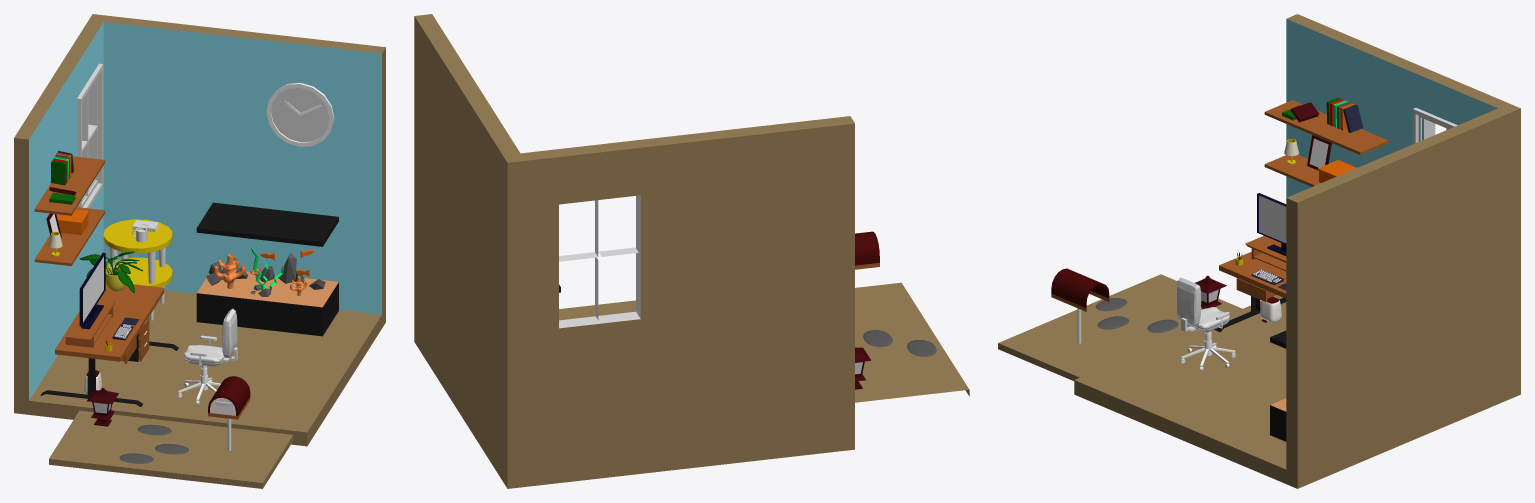
Rendered from officev2.glb.
The picture shows the model from 3 angles, left to right: view 1: azimuth 30°, elevation 25°; view 2: azimuth 150°, elevation 25°; view 3: azimuth 270°, elevation 25°; orthographic projection. The views are drawn at different scales.
Visible parts, largest first — view 1: Walls, Walls.001, Cube.023, Cylinder.011, Desk Top, Plane, Shelf, Cylinder.008, Shelf Itself, Cylinder.012, Monitor Shelf, Cylinder.009 (+9 smaller); view 2: Walls, Walls.001, Plane, Cylinder.012; view 3: Walls, Walls.001, Shelf, Cylinder.012, Desk Top, Screen, Cube.068, Shelf Itself, Cube.023, Monitor Shelf, Cube.063, Plane.
Part boxes in pixels (box(x1,y1,x2,y2)): Walls: box(14, 14, 385, 446); Walls.001: box(49, 410, 293, 488); Cube.023: box(196, 202, 338, 336); Cylinder.011: box(266, 83, 334, 146); Desk Top: box(55, 284, 164, 361); Plane: box(77, 63, 103, 208); Shelf: box(34, 156, 105, 215); Cylinder.008: box(103, 219, 172, 253); Shelf Itself: box(34, 207, 105, 265); Cylinder.012: box(208, 376, 250, 419); Monitor Shelf: box(63, 299, 115, 347); Cylinder.009: box(106, 257, 172, 287); Walls: box(414, 14, 854, 488); Walls.001: box(855, 282, 969, 402); Plane: box(559, 200, 638, 319); Cylinder.012: box(855, 231, 879, 269); Walls: box(1074, 14, 1520, 488); Walls.001: box(998, 274, 1242, 380); Shelf: box(1264, 100, 1388, 154); Cylinder.012: box(1051, 268, 1109, 311); Desk Top: box(1219, 251, 1286, 298); Screen: box(1259, 195, 1286, 243); Cube.068: box(1176, 277, 1200, 326); Shelf Itself: box(1264, 154, 1320, 186); Cube.023: box(1270, 330, 1286, 441); Monitor Shelf: box(1245, 235, 1286, 271); Cube.063: box(1307, 135, 1331, 169); Plane: box(1413, 108, 1457, 143).
Size of the model in its own units: 29.9 by 19.52 by 32.32.
